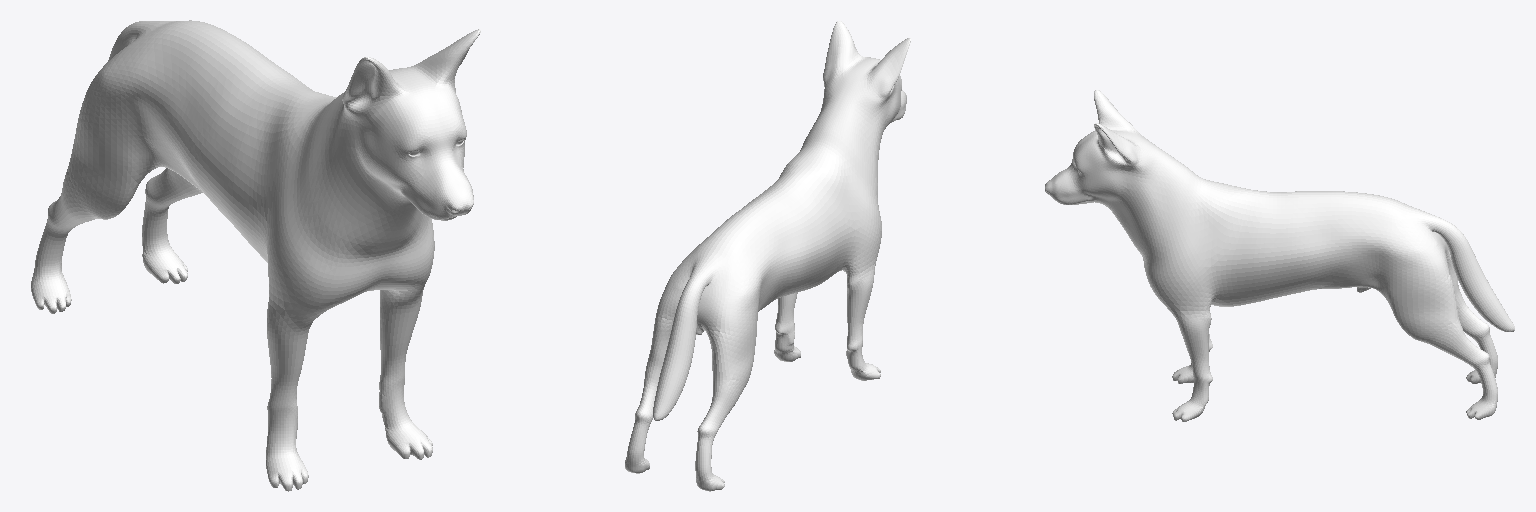
robot.urdf — simple_dog1.obj:
<robot name="simple_dog1.obj">
	<link name="_name">
		<visual>
			<origin xyz="0 0 0" rpy="0 0 0" />
			<geometry>
				<mesh filename="simple_dog1.obj" scale="0.1 0.1 0.1" />
			</geometry>
			<material name="texture">
				<color rgba="1.0 1.0 1.0 1.0" />
			</material>
		</visual>
		<collision>
			<geometry>
				<mesh filename="simple_dog1_vhacd.obj" scale="0.1 0.1 0.1" />
			</geometry>
		</collision>
		<inertial>
			<mass value="1.0" />
			<inertia ixx="1.0" ixy="0.0" ixz="0.0" iyy="1.0" iyz="0.0" izz="1.0" />
		</inertial>
	</link>
</robot>

--- Facts derived from the render (not from the file) ---
The picture shows the robot from 3 angles, left to right: view 1: azimuth 30°, elevation 25°; view 2: azimuth 150°, elevation 25°; view 3: azimuth 270°, elevation 25°; orthographic projection.
Robot: simple_dog1.obj — 1 links, 0 joints (none); root link _name; default pose: every joint at zero.
Visible links, largest first — view 1: _name; view 2: _name; view 3: _name.
Link boxes in pixels (left/top/right/bottom): _name: left=31, top=20, right=480, bottom=491; _name: left=625, top=21, right=910, bottom=491; _name: left=1045, top=90, right=1514, bottom=421.
Bounding box of the posed robot: 0.9357 × 3.87 × 2.65 m (x, y, z).
Meshes: 1 distinct files referenced, 1 mesh visuals loaded (1 OBJ).